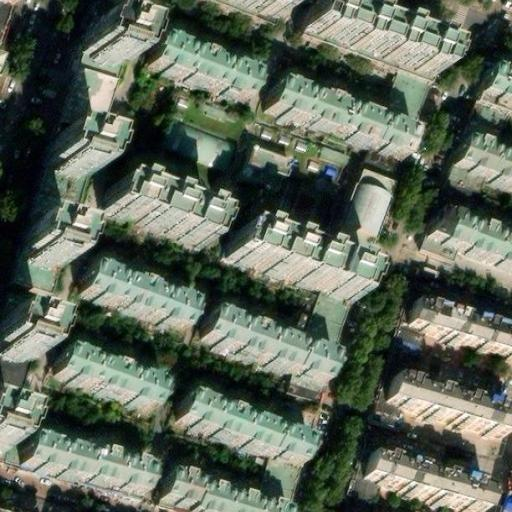building: (257, 80, 403, 161), (304, 18, 448, 96), (220, 223, 357, 299), (165, 398, 302, 474), (191, 310, 326, 387), (378, 373, 508, 438), (70, 266, 186, 337), (95, 183, 210, 251), (356, 453, 488, 512), (42, 349, 151, 419), (138, 41, 248, 106), (401, 301, 512, 362), (420, 215, 512, 278), (153, 470, 286, 512), (331, 168, 392, 249), (52, 58, 111, 140), (158, 116, 236, 170), (337, 430, 388, 512), (268, 378, 322, 445), (295, 288, 347, 356), (15, 169, 67, 236), (72, 449, 142, 498), (445, 144, 512, 195), (10, 438, 79, 486), (458, 101, 504, 156), (431, 172, 477, 226), (36, 147, 87, 195), (71, 25, 121, 73), (10, 227, 63, 270), (0, 245, 44, 295), (79, 0, 135, 37), (383, 83, 424, 133), (468, 70, 512, 115), (252, 465, 291, 504), (0, 299, 38, 335), (500, 493, 512, 512)
